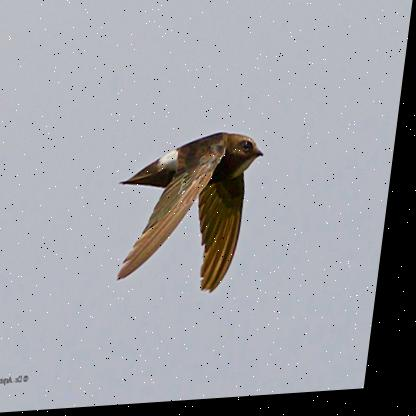Burung: (112, 132, 272, 303), (113, 133, 272, 301)
